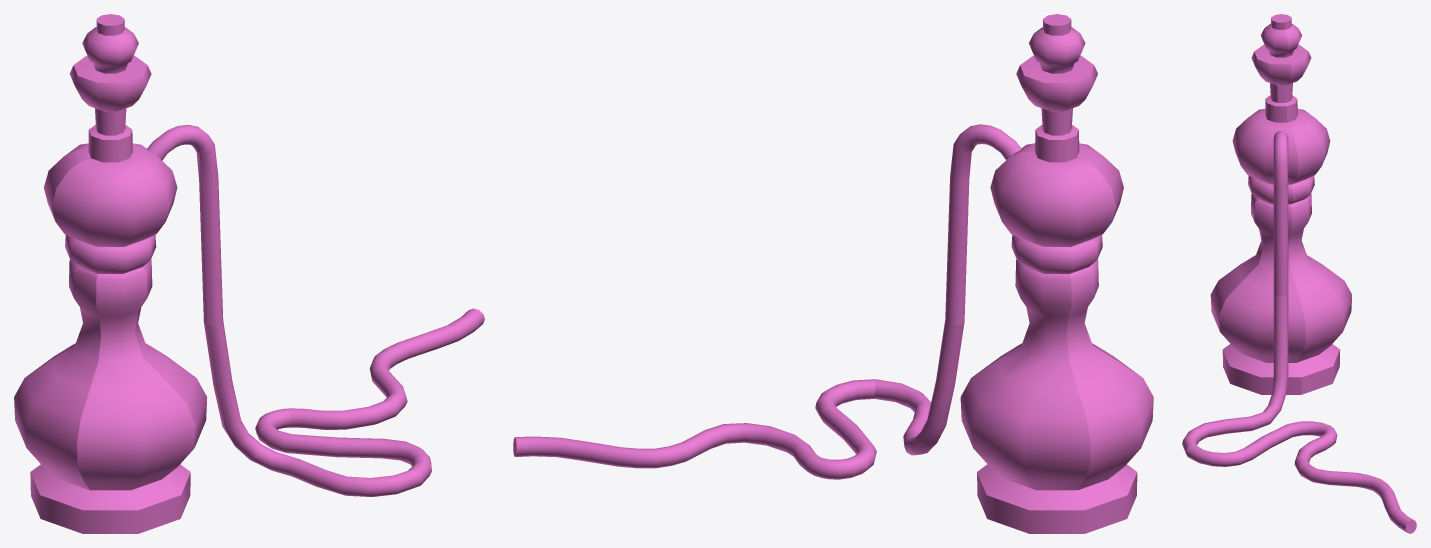
Rendered from SM_Magic_Bottle_3.fbx.
The picture shows the model from 3 angles, left to right: view 1: azimuth 30°, elevation 25°; view 2: azimuth 150°, elevation 25°; view 3: azimuth 270°, elevation 25°; orthographic projection. The views are drawn at different scales.
Parts seen in each view (by area): view 1: SM_Magic_Bottle_3; view 2: SM_Magic_Bottle_3; view 3: SM_Magic_Bottle_3.
Boxes of the visible parts, box(x1,y1,x2,y2) form: SM_Magic_Bottle_3: box(14, 14, 484, 533); SM_Magic_Bottle_3: box(513, 14, 1153, 533); SM_Magic_Bottle_3: box(1182, 14, 1416, 533).
Bounding box in the file's own units: 1.01 × 0.8534 × 0.5146.
